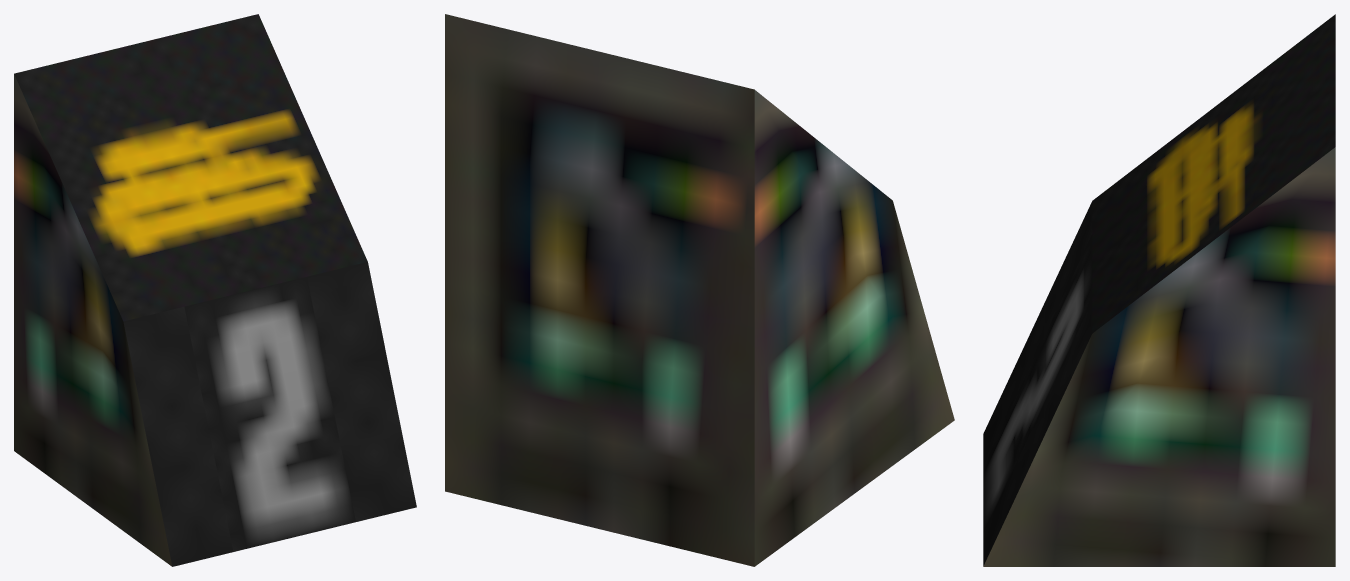
File: prop-027.glb
The picture shows the model from 3 angles, left to right: view 1: azimuth 30°, elevation 25°; view 2: azimuth 150°, elevation 25°; view 3: azimuth 270°, elevation 25°; orthographic projection. The views are drawn at different scales.
Parts seen in each view (by area): view 1: root; view 2: root; view 3: root.
Part boxes in pixels (x1,y1,x2,y2): root: (14, 14, 416, 566); root: (445, 14, 954, 566); root: (983, 14, 1335, 566).
Size of the model in its own units: 0.6582 by 0.9707 by 0.7383.
1 material, 1 textured.
